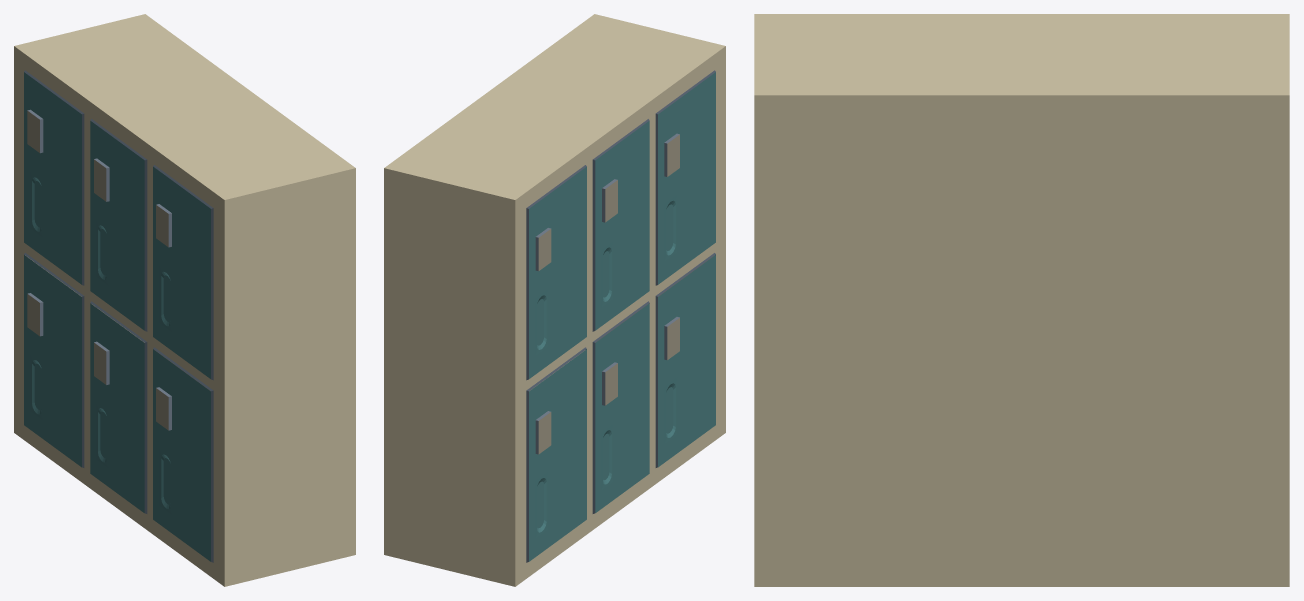
File: 3D_lockers.fbx
The picture shows the model from 3 angles, left to right: view 1: azimuth 30°, elevation 25°; view 2: azimuth 150°, elevation 25°; view 3: azimuth 270°, elevation 25°; orthographic projection. The views are drawn at different scales.
Visible parts, largest first — view 1: Locker Base Structure.001; view 2: Locker Base Structure.001; view 3: Locker Base Structure.001.
Boxes of the visible parts, x1=… form: Locker Base Structure.001: x1=14, y1=14, x2=355, y2=586; Locker Base Structure.001: x1=384, y1=14, x2=725, y2=586; Locker Base Structure.001: x1=754, y1=14, x2=1289, y2=586.
Bounding box in the file's own units: 0.9347 × 2.53 × 2.5.
